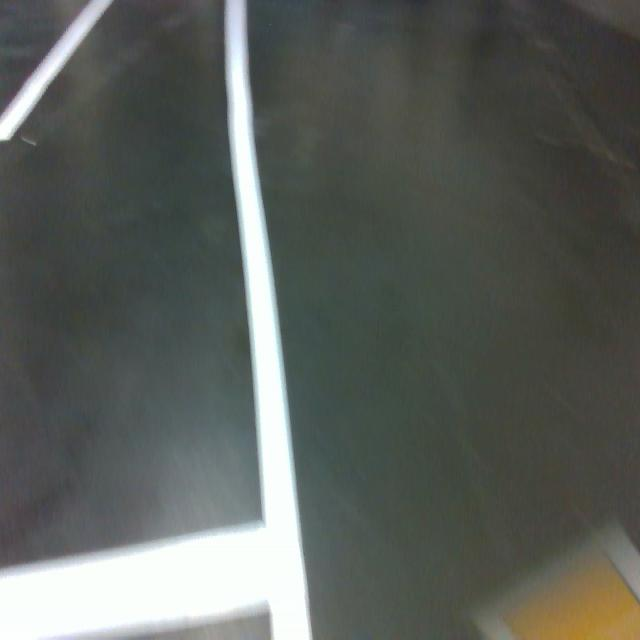priority-sign: (471, 518, 640, 640)
